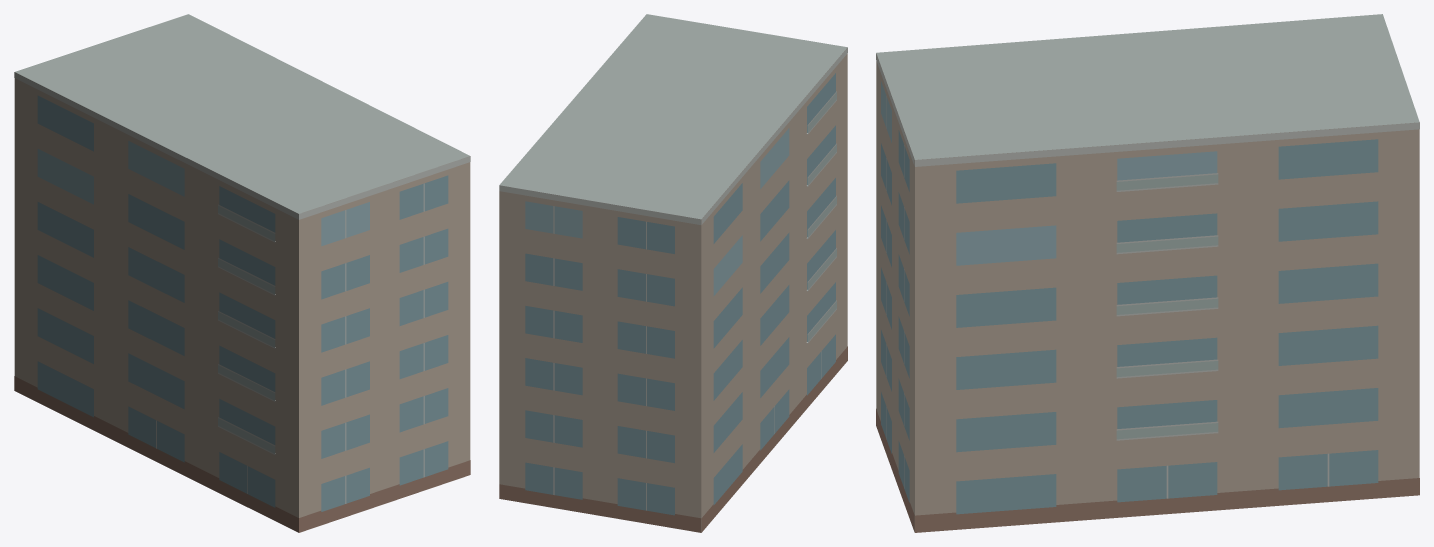
The model's file is survey-upis-32882722.glb.
3 views of the same model, side by side, from view 1: azimuth 30°, elevation 25°; view 2: azimuth 150°, elevation 25°; view 3: azimuth 270°, elevation 25° (orthographic). The views are drawn at different scales.
Parts seen in each view (by area): view 1: survey-upis-32882722.tmp; view 2: survey-upis-32882722.tmp; view 3: survey-upis-32882722.tmp.
Part boxes in pixels (x1,y1,x2,y2): survey-upis-32882722.tmp: [14, 14, 470, 532]; survey-upis-32882722.tmp: [499, 14, 847, 532]; survey-upis-32882722.tmp: [876, 14, 1419, 532].
Size of the model in its own units: 10.92 by 13 by 17.19.
